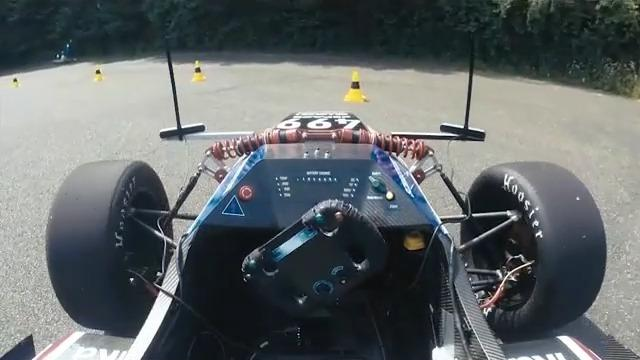yellow_cone: (344, 70, 368, 104), (191, 59, 208, 82), (93, 67, 105, 83)
